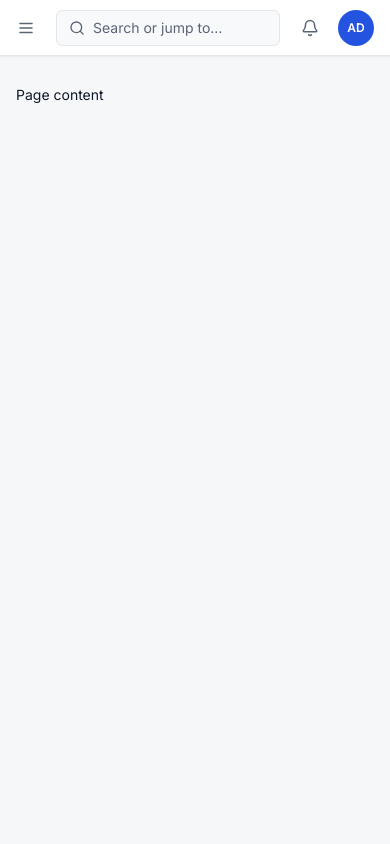
it: AppShell — mobile drawer › opens, locks body scroll, and closes on Escape
Step 1. Click the button named "Open navigation menu" → [26, 28], box [8, 10, 44, 46]
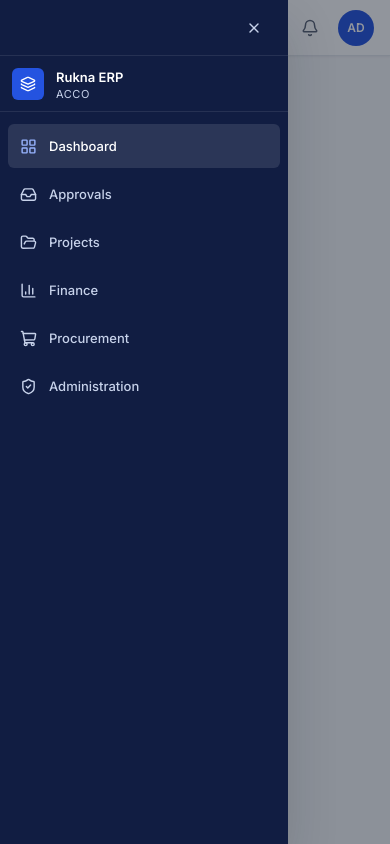
Expected: the dialog named "Main navigation" is shown
Expected: the text "Projects" is shown, [49, 232, 100, 252]
Step 2. Press Escape
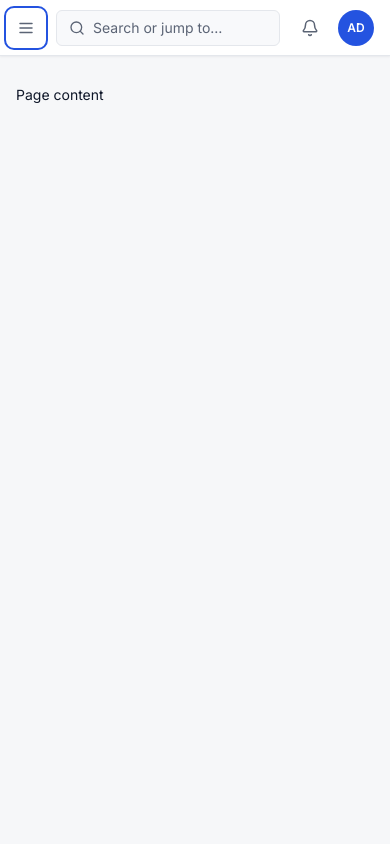
Expected: the dialog is gone
